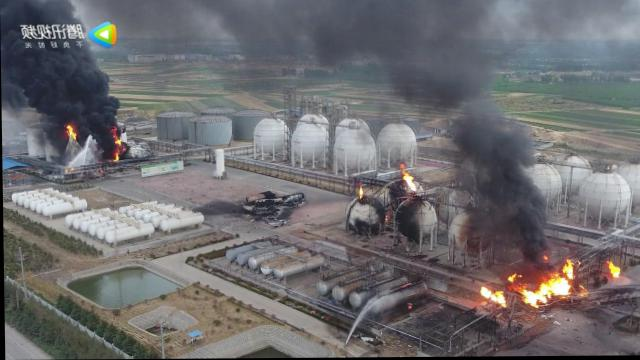fire: (523, 289, 546, 306), (549, 278, 572, 293), (491, 289, 506, 303), (404, 174, 415, 192), (563, 261, 574, 277), (608, 264, 619, 278), (540, 284, 551, 298), (478, 288, 491, 299), (510, 285, 527, 293), (508, 273, 521, 283), (68, 124, 77, 137), (358, 187, 363, 197), (116, 150, 121, 160), (115, 138, 123, 144)
